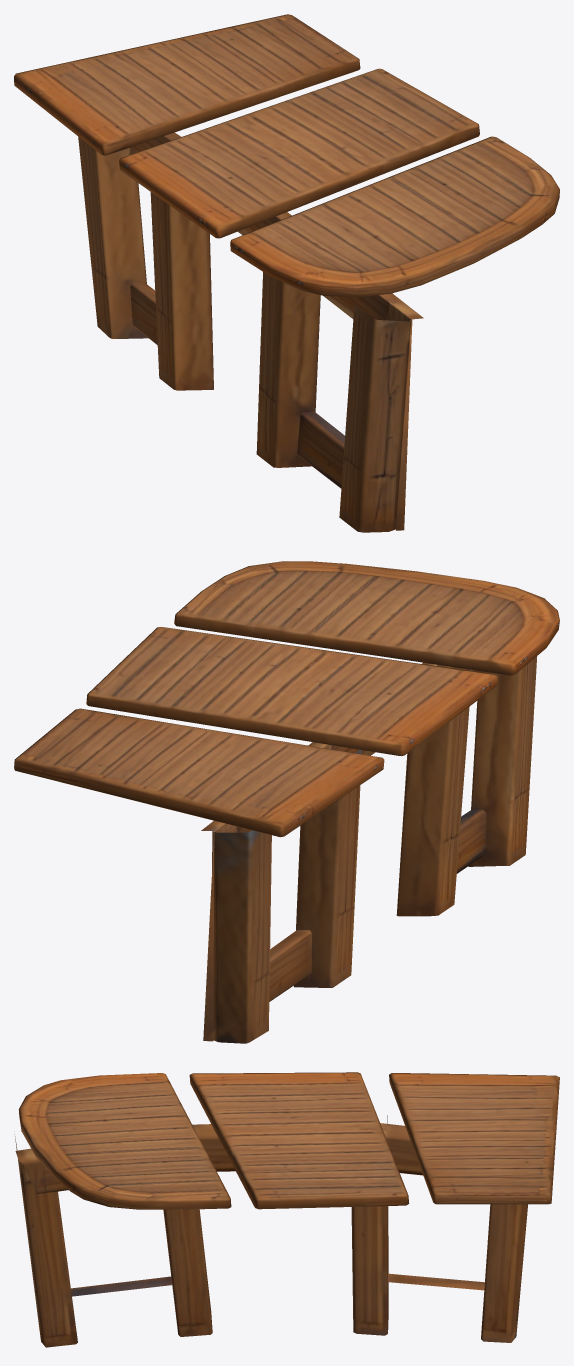
Rendered from quarterdeck_panels.glb.
The picture shows the model from 3 angles, top to bottom: view 1: azimuth 30°, elevation 25°; view 2: azimuth 150°, elevation 25°; view 3: azimuth 270°, elevation 25°; orthographic projection. The views are drawn at different scales.
Visible parts, largest first — view 1: panels, support; view 2: panels, support; view 3: panels, support.
Part boxes in pixels (<box>): panels: <box>14,14,559,297</box>; support: <box>78,132,423,532</box>; panels: <box>14,561,559,837</box>; support: <box>201,656,537,1043</box>; panels: <box>18,1072,559,1209</box>; support: <box>14,1115,527,1347</box>.
Size of the model in its own units: 3.11 by 2.6 by 5.41.
1 material, 1 textured.
